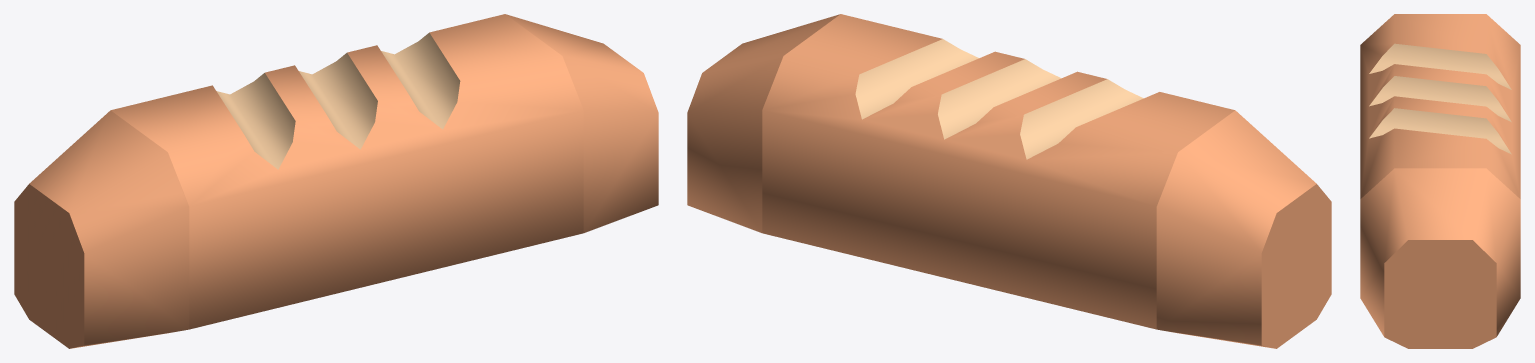
The model's file is loafBaguette.dae.
The picture shows the model from 3 angles, left to right: view 1: azimuth 30°, elevation 25°; view 2: azimuth 150°, elevation 25°; view 3: azimuth 270°, elevation 25°; orthographic projection. The views are drawn at different scales.
Visible parts, largest first — view 1: loafBaguette; view 2: loafBaguette; view 3: loafBaguette.
Part boxes in pixels (x1,y1,x2,y2): loafBaguette: (14,14,658,348); loafBaguette: (687,14,1331,348); loafBaguette: (1360,14,1520,348).
Bounding box in the file's own units: 0.83 × 0.25 × 0.25.
